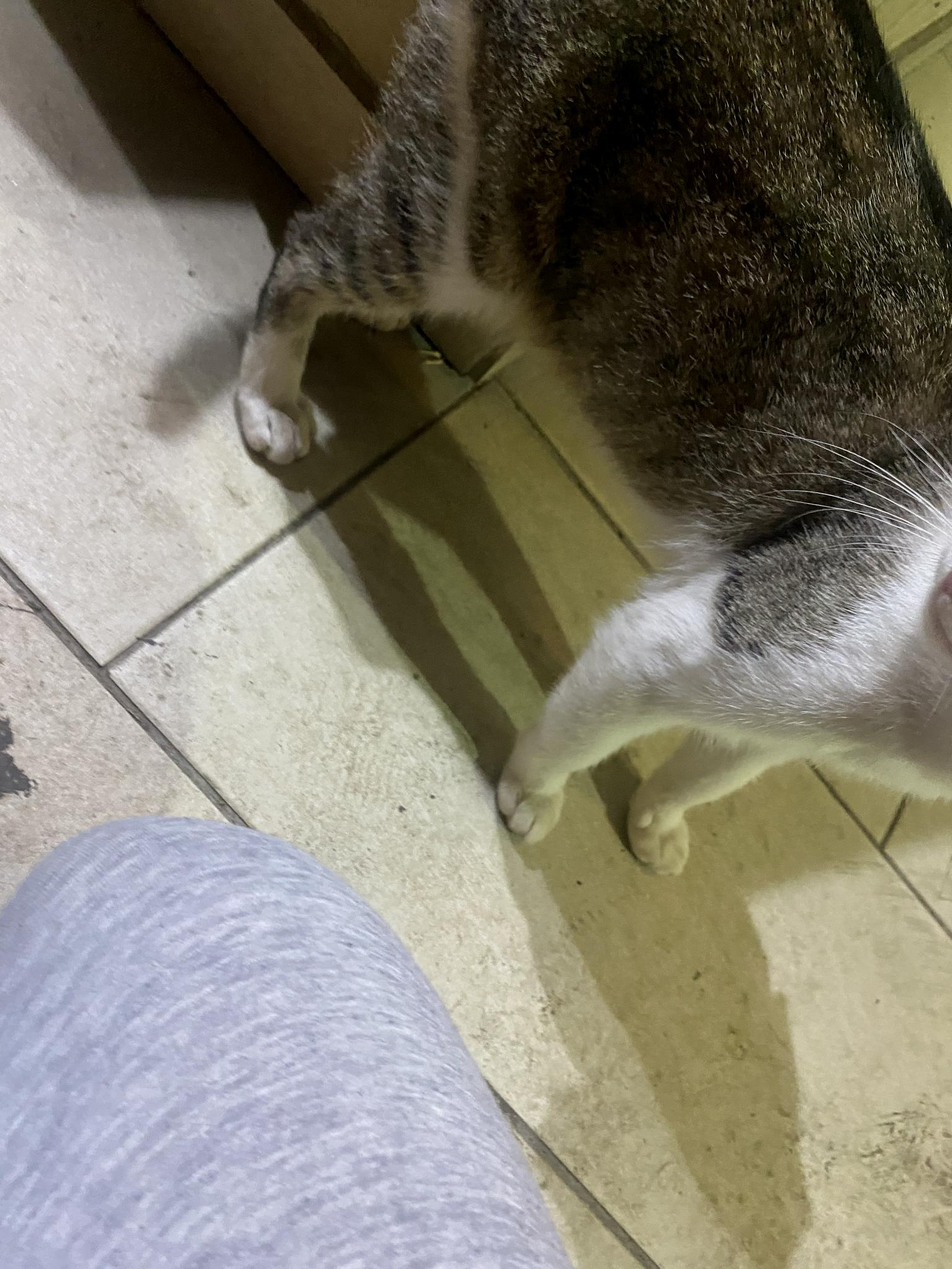macka: (237, 0, 952, 881)
